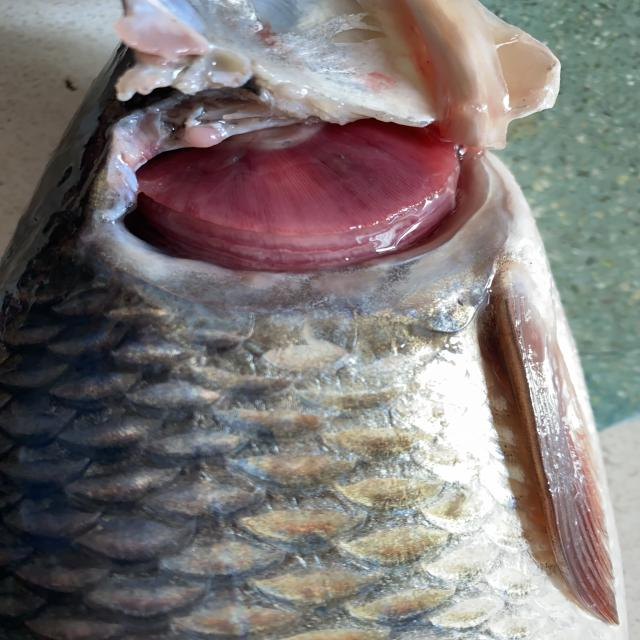Fresh: (68, 85, 529, 298)
